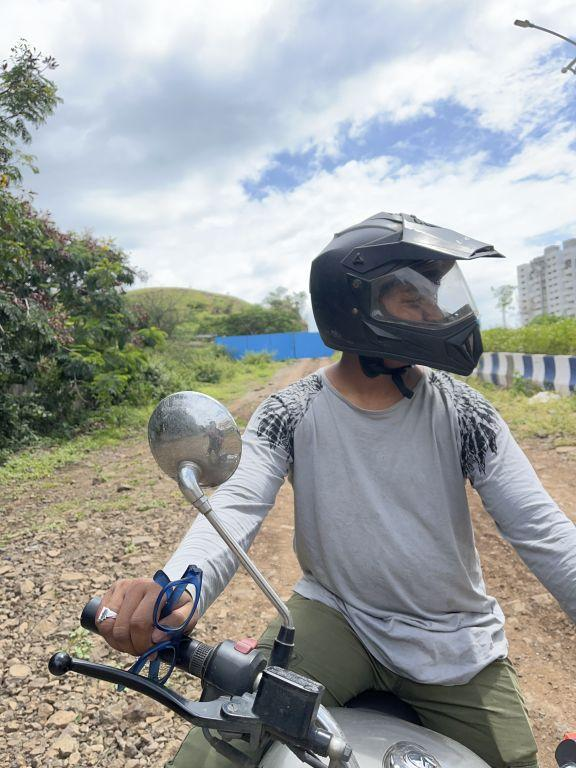helmet: (292, 199, 518, 390)
